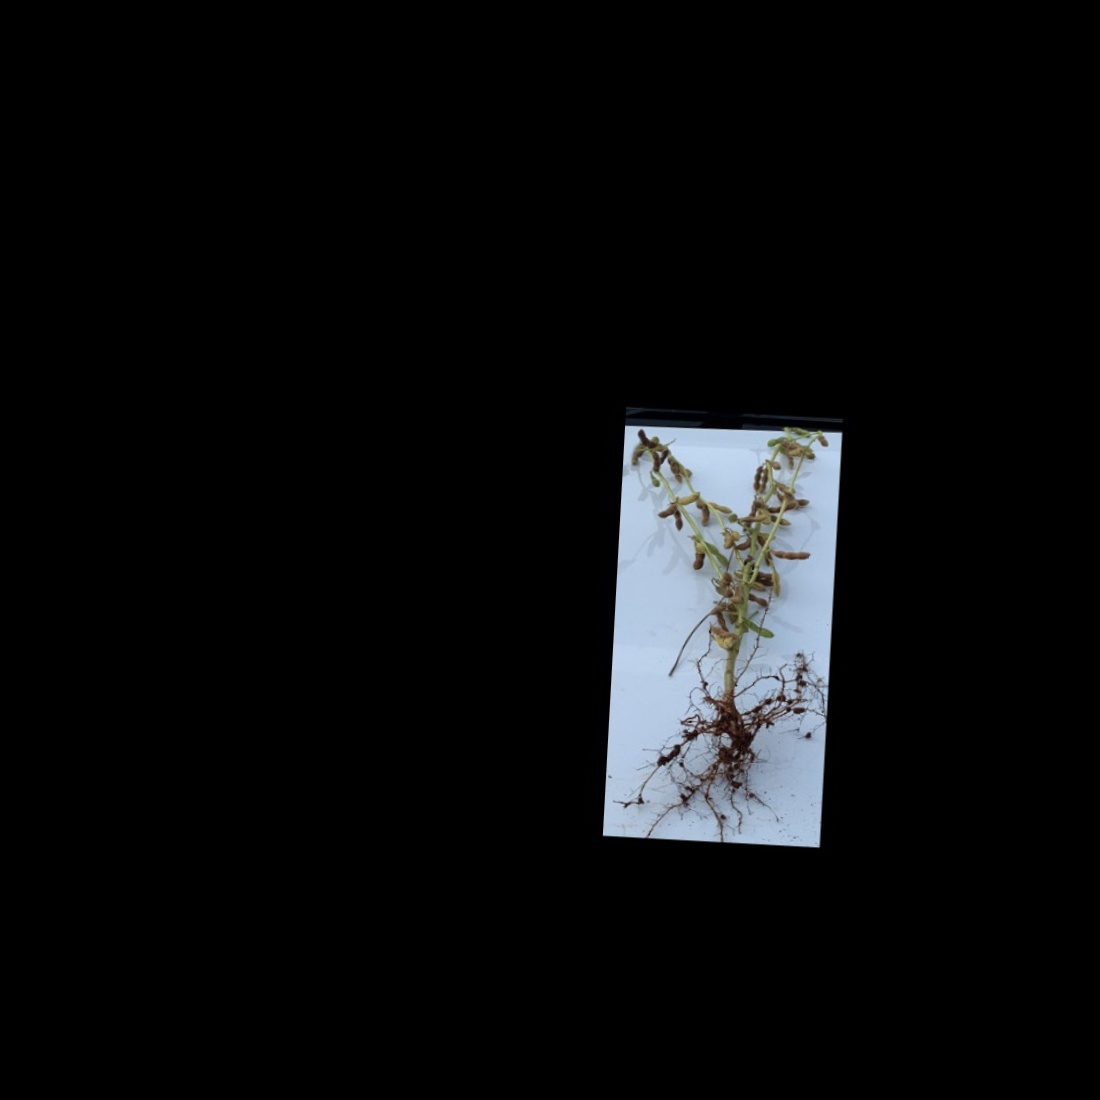pod: (765, 546, 813, 564), (739, 616, 777, 640), (704, 542, 736, 568), (652, 499, 682, 519), (745, 591, 771, 612), (705, 500, 734, 516), (750, 462, 765, 493), (788, 425, 815, 440)
soy: (608, 412, 836, 839)
